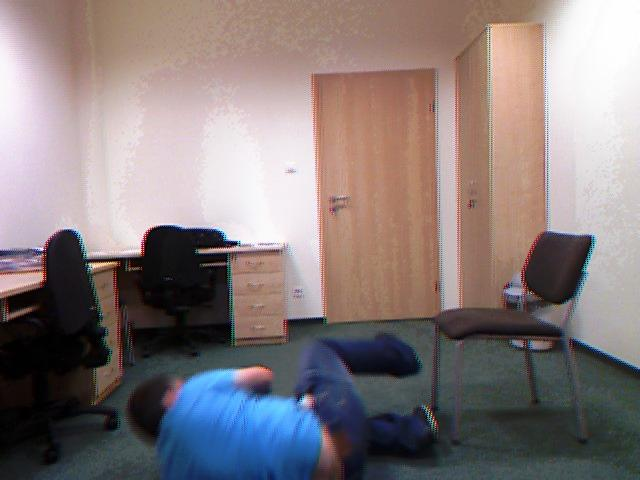fall: (128, 335, 438, 479)
